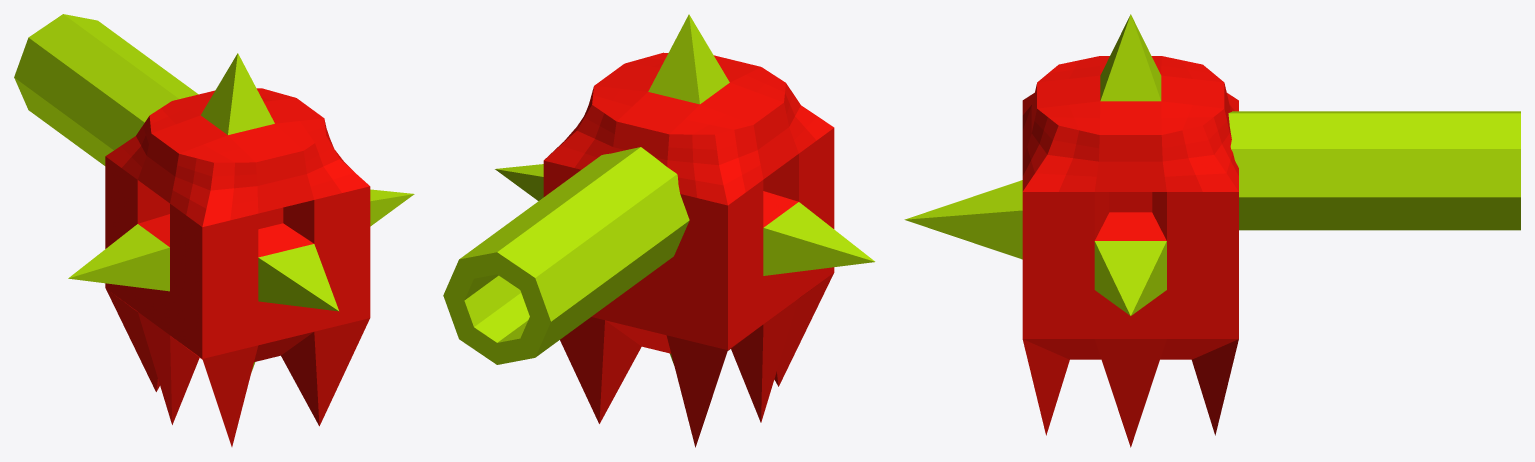
File: enemy.01.fbx
The picture shows the model from 3 angles, left to right: view 1: azimuth 30°, elevation 25°; view 2: azimuth 150°, elevation 25°; view 3: azimuth 270°, elevation 25°; orthographic projection. The views are drawn at different scales.
Parts seen in each view (by area): view 1: Enemy.001; view 2: Enemy.001; view 3: Enemy.001.
Part boxes in pixels (x1,y1,x2,y2): Enemy.001: (14,14,414,446); Enemy.001: (443,14,875,447); Enemy.001: (904,14,1520,447).
Bounding box in the file's own units: 413 × 406 × 570.
